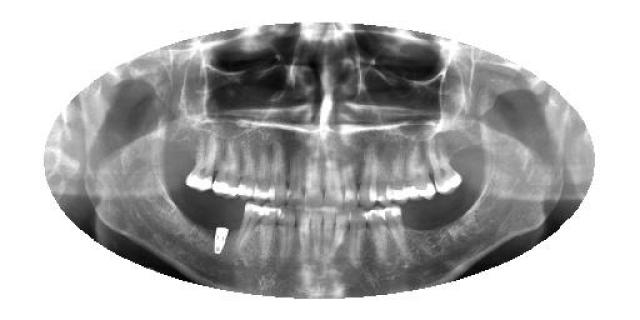Fillings: (404, 131, 435, 201), (182, 134, 218, 191), (211, 135, 239, 199), (428, 145, 464, 194), (234, 201, 264, 251), (386, 131, 406, 205), (382, 205, 408, 256), (236, 141, 256, 201), (365, 206, 387, 256), (261, 205, 280, 257), (254, 150, 272, 199)
Implant: (212, 224, 230, 256)
